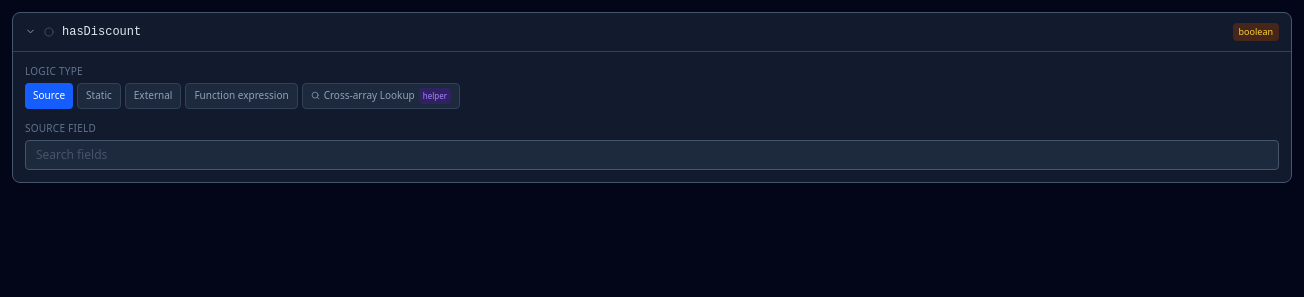
Test: ItemFieldRow › shows parent-scope options in nested context
Click the field with test id "field-search-hasDiscount" at [652, 154], box [25, 140, 1279, 170]
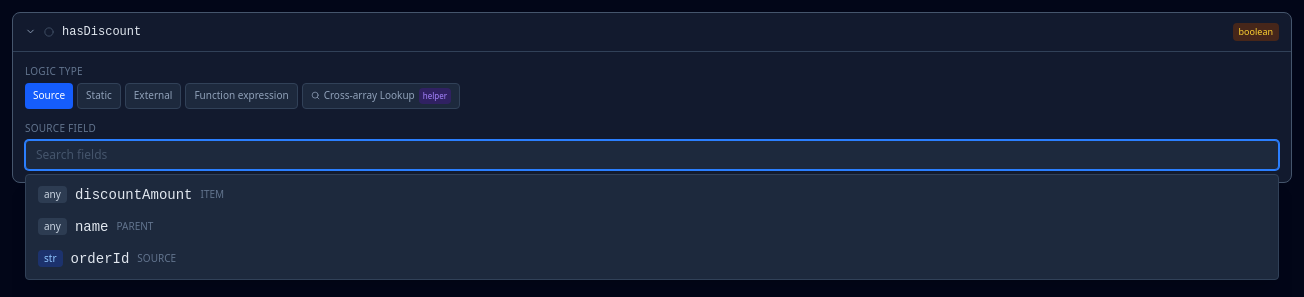
Result: the option with test id "field-option-hasDiscount-parent-name" is shown at [30, 210, 1274, 242]
Result: the text "parent" is shown at [116, 220, 153, 233]
